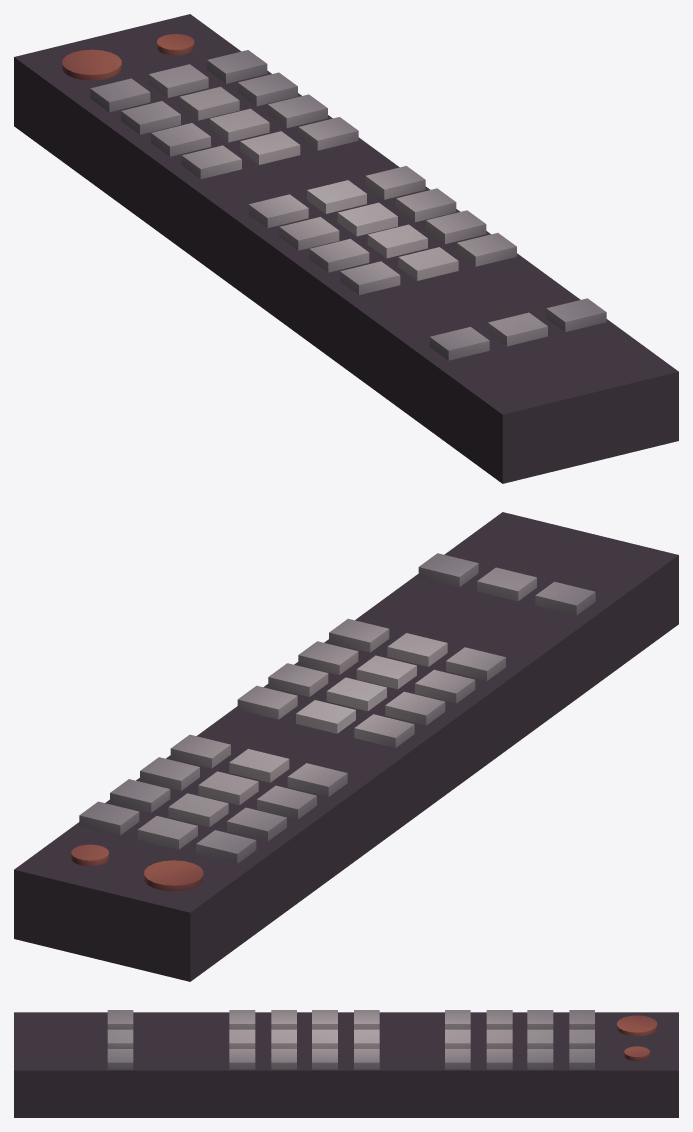
Rendered from M_remotecontrol.FBX.
The picture shows the model from 3 angles, top to bottom: view 1: azimuth 30°, elevation 25°; view 2: azimuth 150°, elevation 25°; view 3: azimuth 270°, elevation 25°; orthographic projection. The views are drawn at different scales.
Visible parts, largest first — view 1: Box012; view 2: Box012; view 3: Box012.
Boxes of the visible parts, x1,y1,x2,y2 form: Box012: (14,14,678,483); Box012: (14,512,678,981); Box012: (14,1010,678,1117).
Bounding box in the file's own units: 7.83 × 37.59 × 3.37.
